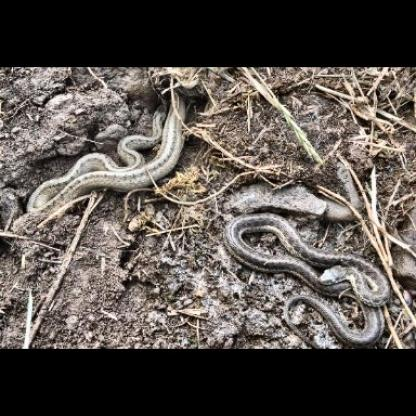Snake: (218, 211, 416, 341), (23, 128, 201, 217)
